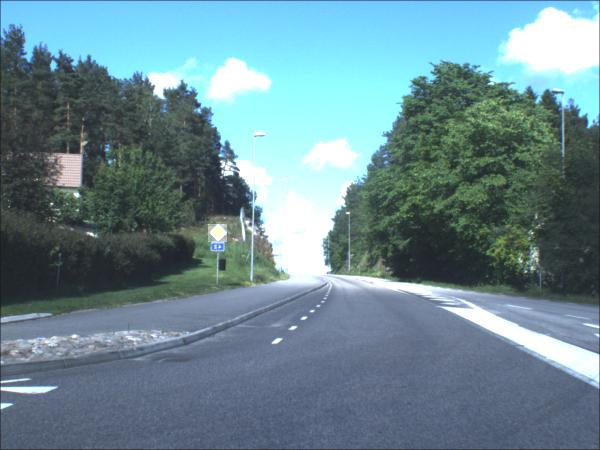PRIORITY_ROAD: (208, 225, 228, 244)
